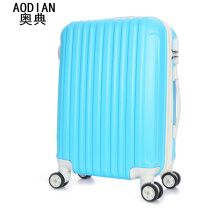luggage: (48, 15, 183, 202)
